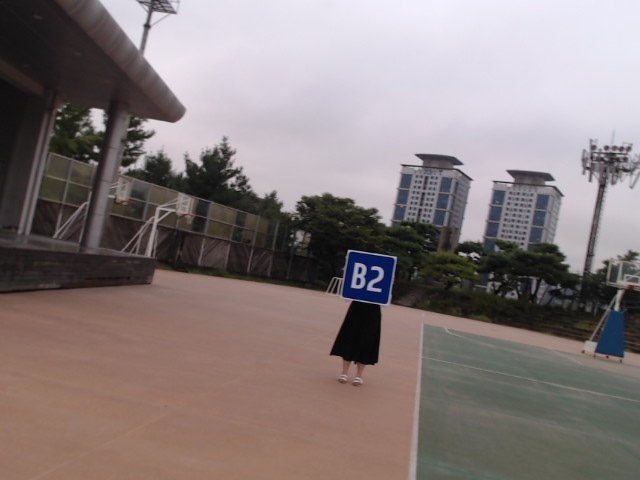delivery_b2: (342, 250, 396, 305)
